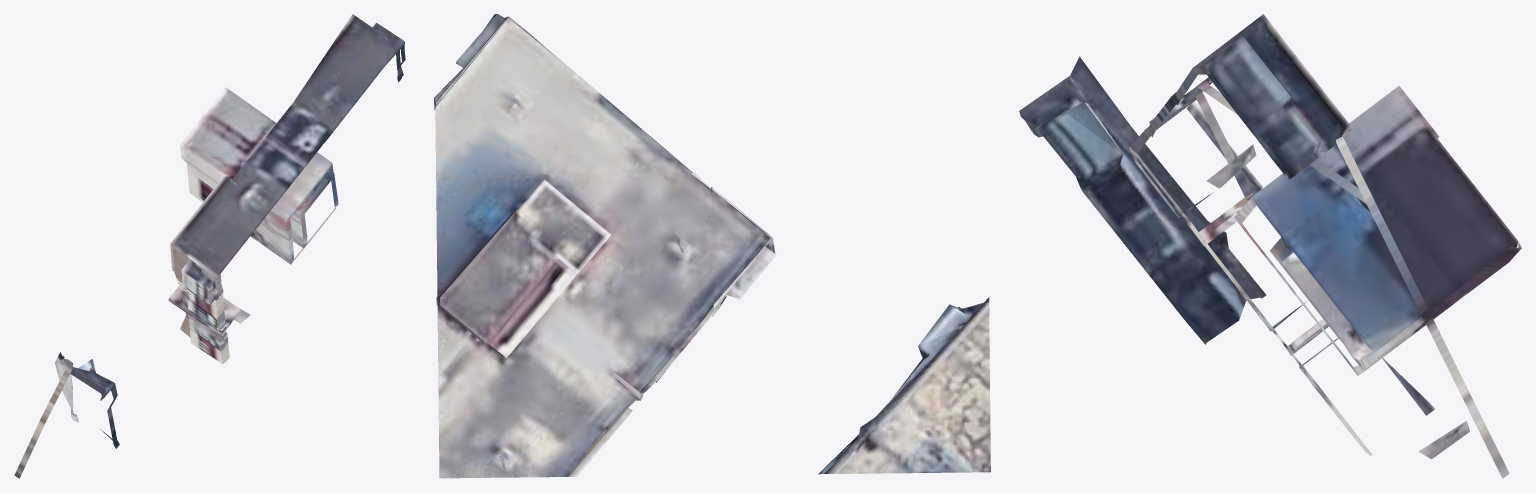
3 views of the same model, side by side, from view 1: azimuth 30°, elevation 25°; view 2: azimuth 150°, elevation 25°; view 3: azimuth 270°, elevation 25° (orthographic). The views are drawn at different scales.
Size of the model in its own units: 36.33 by 28.31 by 25.32.
1 material, 1 textured.
